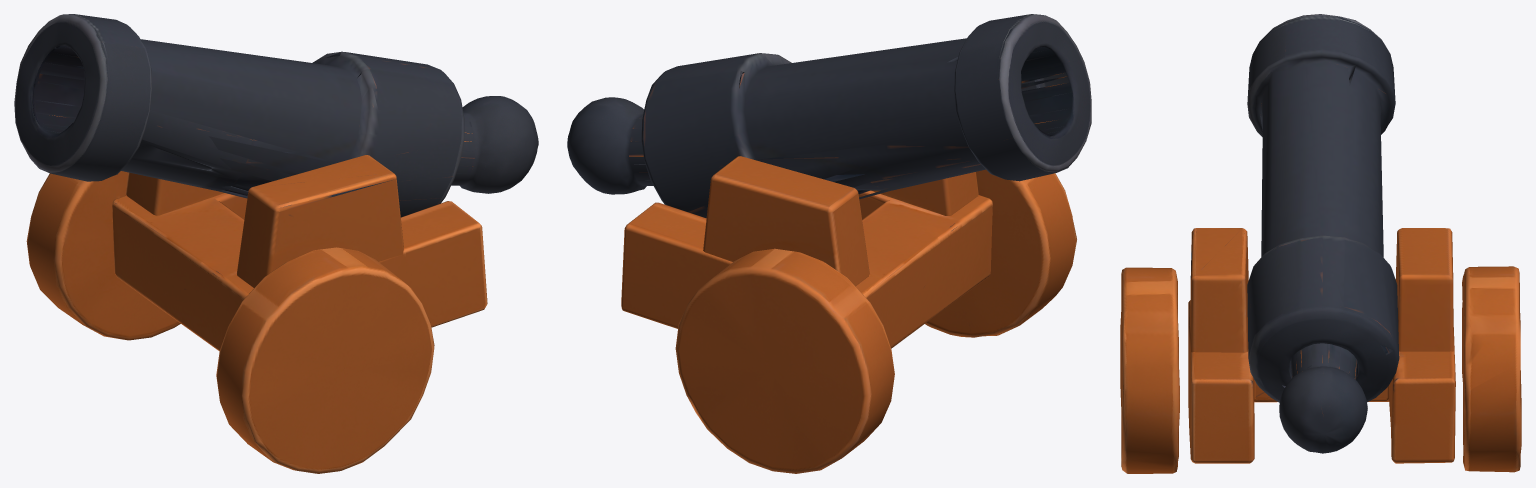
Rendered from deckCannon.glb.
3 renders of one model, left to right at view 1: azimuth 30°, elevation 25°; view 2: azimuth 150°, elevation 25°; view 3: azimuth 270°, elevation 25°, orthographic. The views are drawn at different scales.
Size of the model in its own units: 1 by 0.8008 by 0.7617.
Materials: 1 (1 with a texture image).
